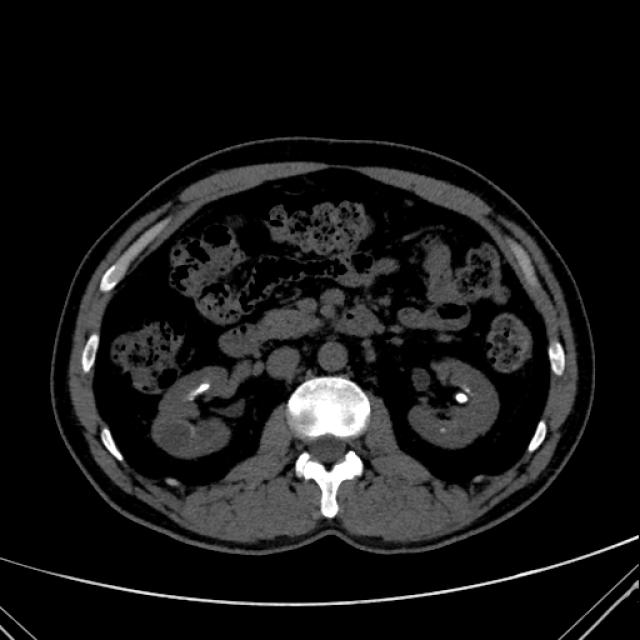kidneystone: (172, 368, 221, 401), (454, 391, 469, 404)
